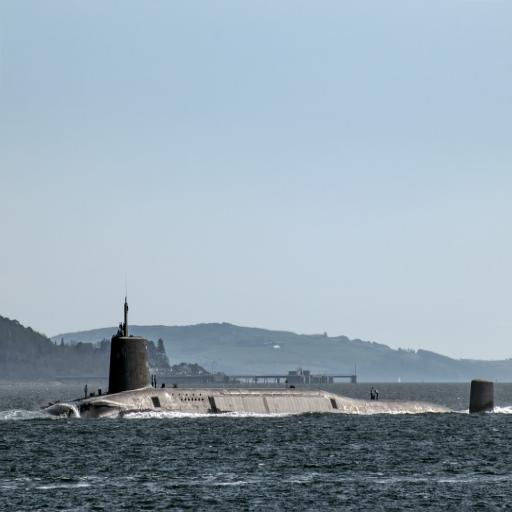submarine: (50, 292, 502, 418)
